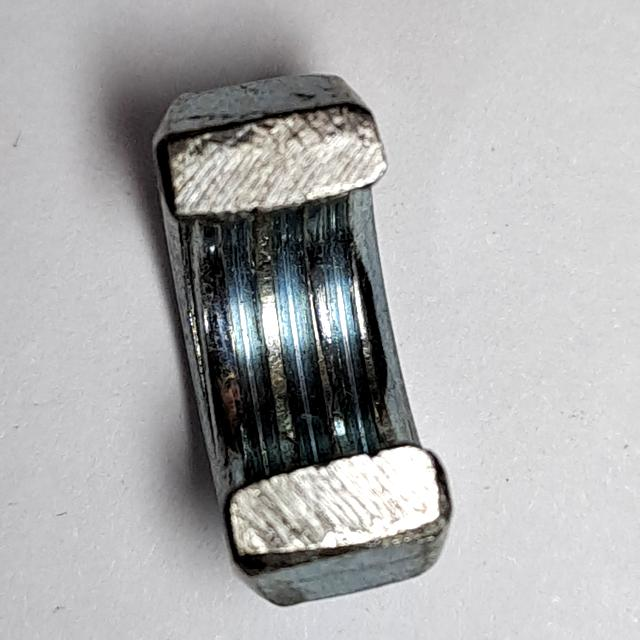Side-Fracture: (137, 58, 469, 615)
